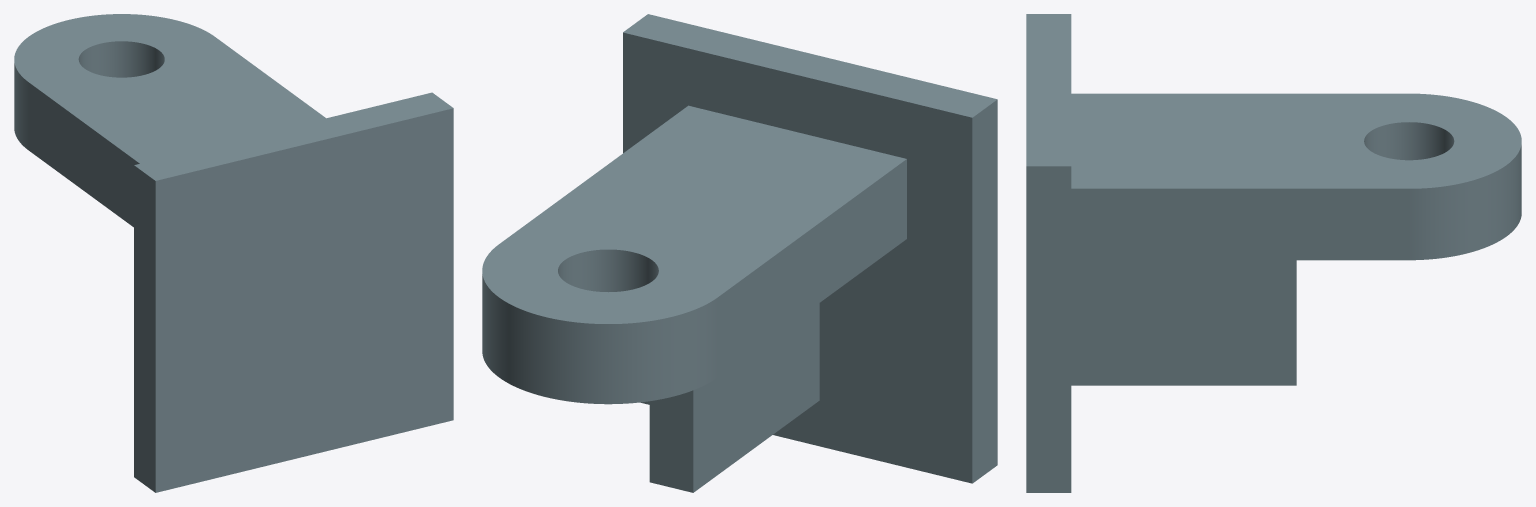
File: esp2023_p06_actuator_bracket.glb
3 renders of one model, left to right at view 1: azimuth 30°, elevation 25°; view 2: azimuth 150°, elevation 25°; view 3: azimuth 270°, elevation 25°, orthographic. The views are drawn at different scales.
Visible parts, largest first — view 1: actuator bracket; view 2: actuator bracket; view 3: actuator bracket.
Part boxes in pixels (left/top/right/bottom): actuator bracket: left=14, top=14, right=453, bottom=492; actuator bracket: left=482, top=14, right=997, bottom=492; actuator bracket: left=1026, top=14, right=1521, bottom=492.
Bounding box in the file's own units: 160 × 160 × 220.
